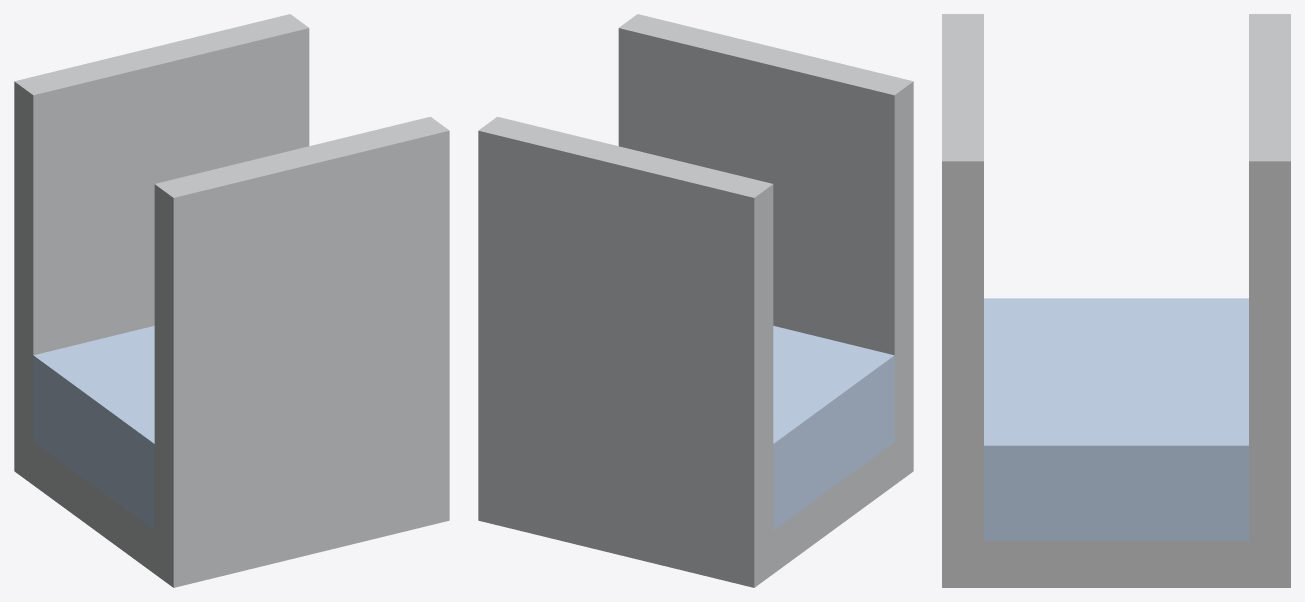
File: escalator-far.glb
3 views of the same model, side by side, from view 1: azimuth 30°, elevation 25°; view 2: azimuth 150°, elevation 25°; view 3: azimuth 270°, elevation 25° (orthographic). The views are drawn at different scales.
Visible parts, largest first — view 1: escalator-far; view 2: escalator-far; view 3: escalator-far.
Boxes of the visible parts, x1,y1,x2,y2 form: escalator-far: (14, 14, 449, 587); escalator-far: (478, 14, 913, 587); escalator-far: (942, 14, 1290, 587).
Size of the model in its own units: 0.3472 by 0.4688 by 0.3472.
